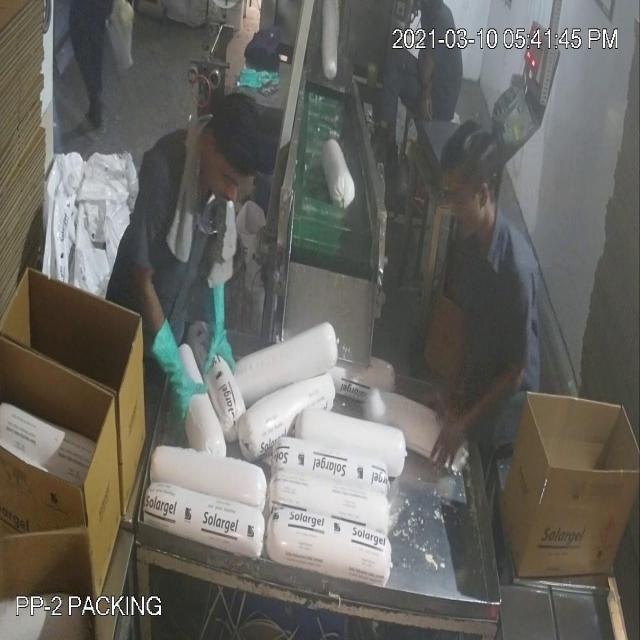No_Gloves: (38, 112, 478, 414)
